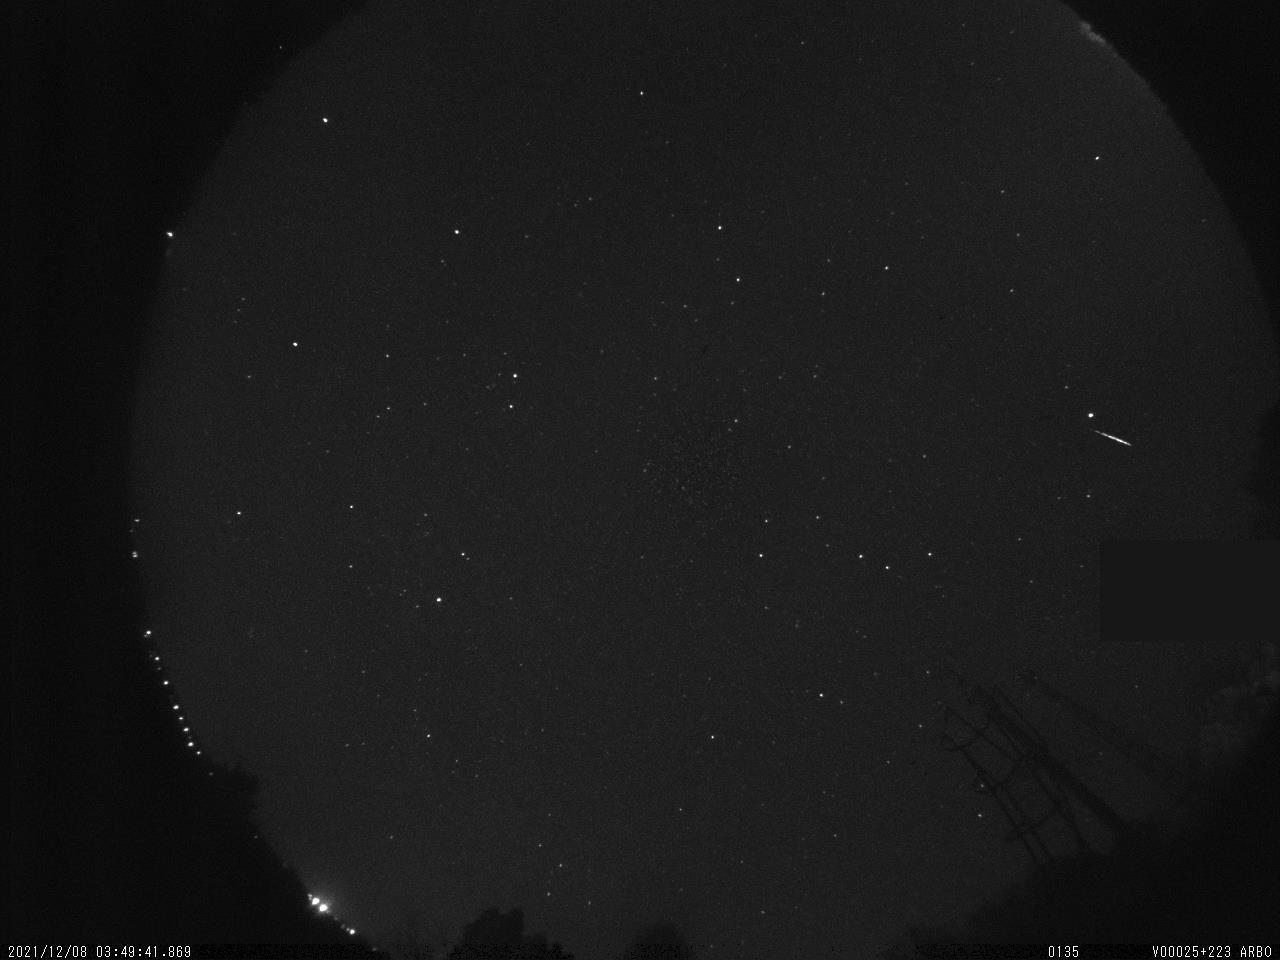meteor: (1079, 423, 1149, 453)
